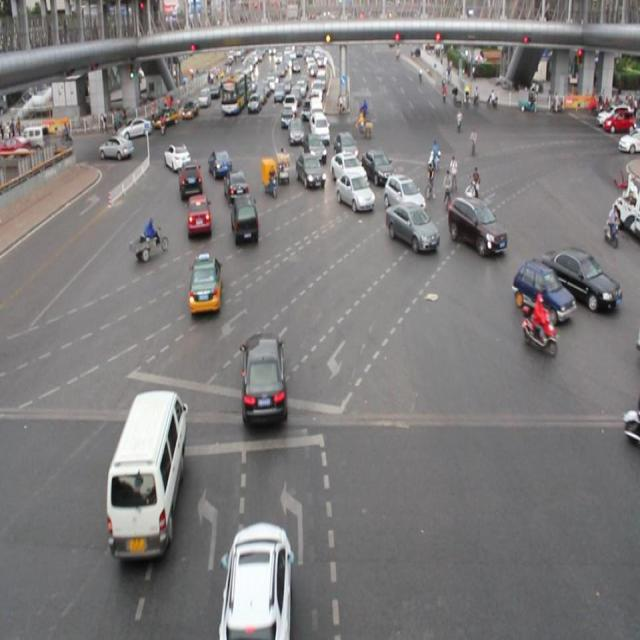car: (220, 521, 293, 640), (539, 247, 619, 309), (240, 332, 288, 428), (509, 260, 574, 322), (448, 195, 506, 252), (385, 200, 437, 252), (188, 253, 221, 315), (384, 172, 425, 213), (334, 170, 373, 213), (229, 196, 259, 245), (330, 151, 367, 187), (359, 147, 394, 185), (295, 152, 325, 188), (187, 192, 210, 237), (223, 168, 248, 207), (163, 142, 191, 173), (332, 132, 359, 164), (178, 163, 202, 198), (100, 137, 133, 162), (207, 149, 232, 180), (302, 132, 326, 163)
truck: (107, 388, 189, 559)
